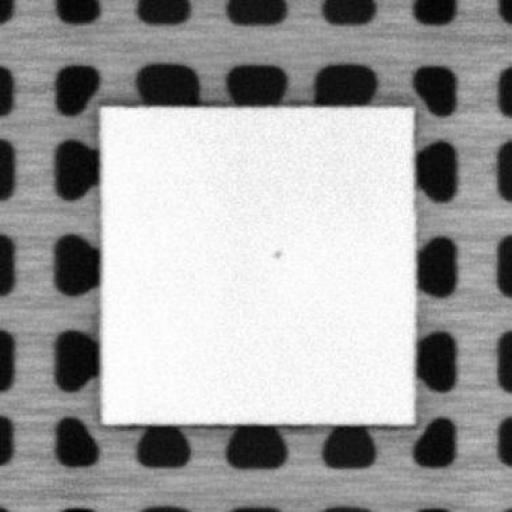DIE_INK: (268, 245, 283, 258)
